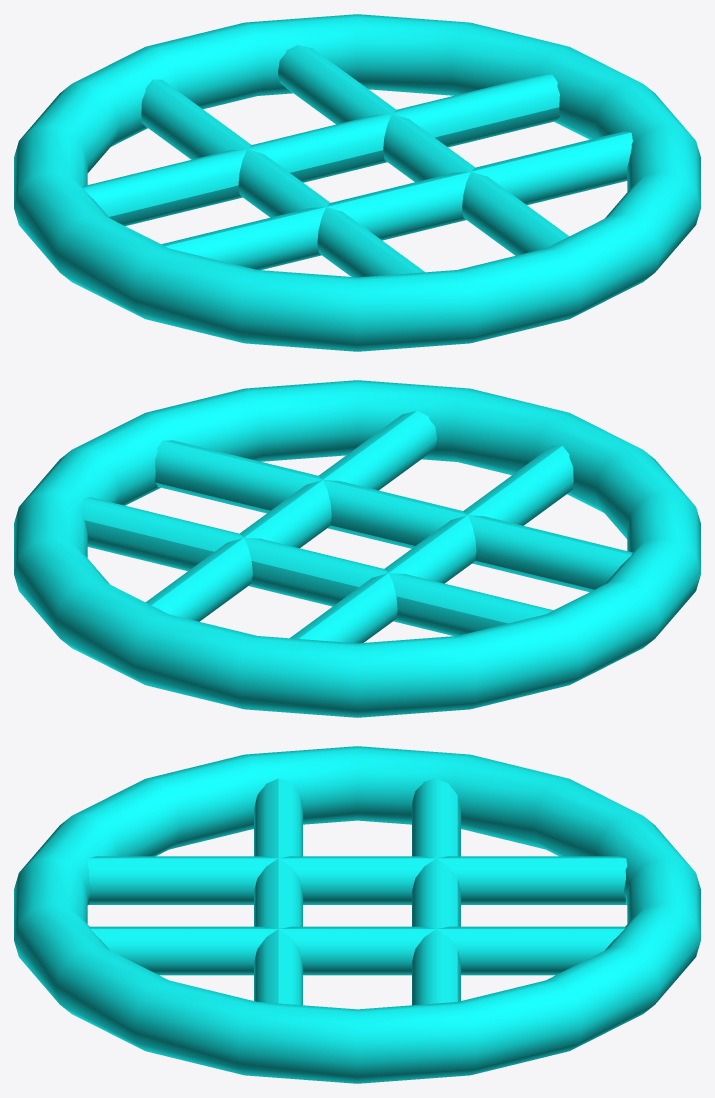
File: Submit Scan.fbx
The picture shows the model from 3 angles, top to bottom: view 1: azimuth 30°, elevation 25°; view 2: azimuth 150°, elevation 25°; view 3: azimuth 270°, elevation 25°; orthographic projection.
Visible parts, largest first — view 1: Ring; view 2: Ring; view 3: Ring.
Boxes of the visible parts, bbox=[...] form: Ring: bbox=[14, 14, 700, 351]; Ring: bbox=[14, 380, 700, 717]; Ring: bbox=[14, 746, 700, 1083].
Bounding box in the file's own units: 348 × 37.28 × 343.
